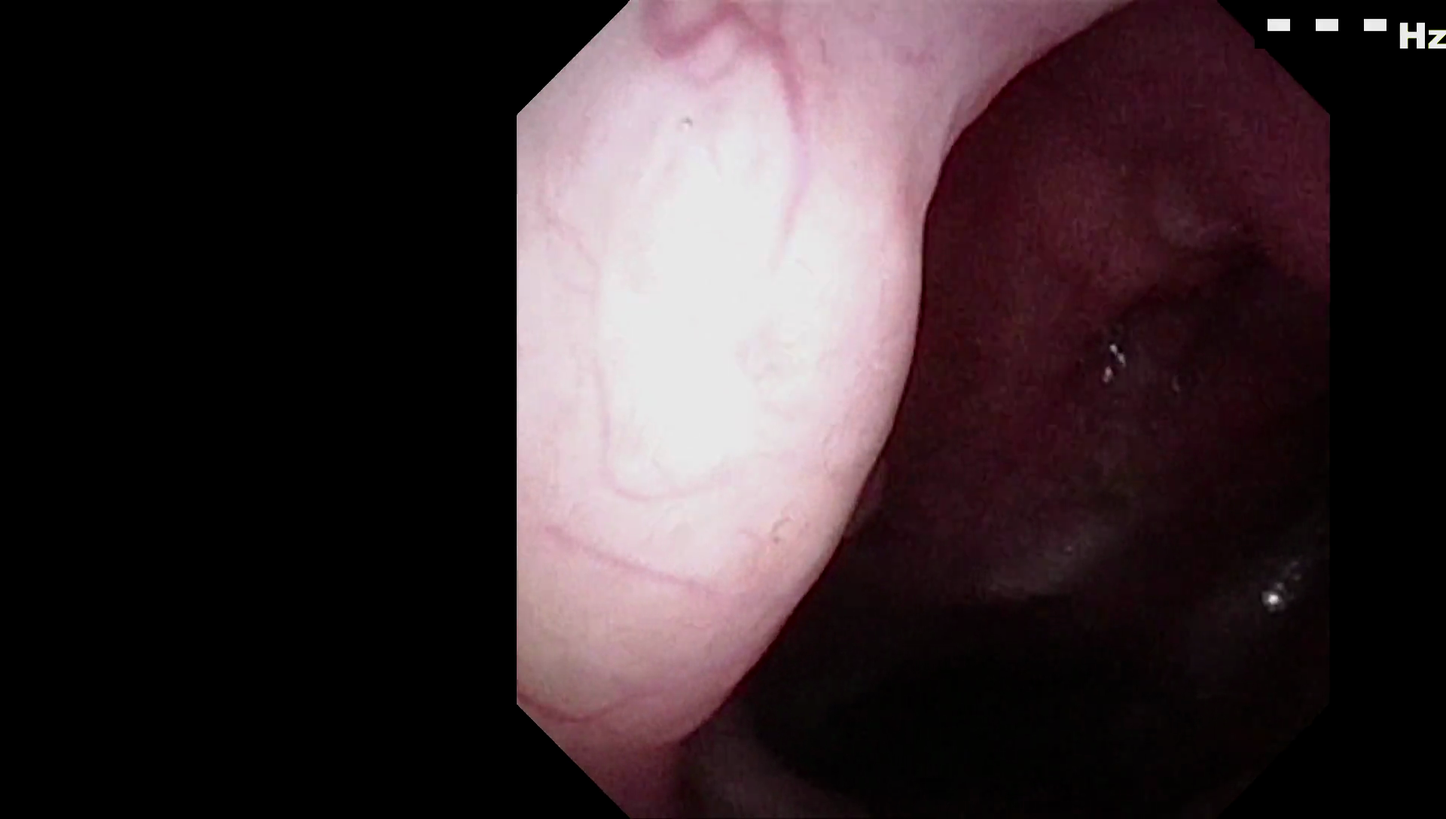close_wall: (541, 113, 941, 762)
next: (788, 440, 1366, 819), (706, 498, 1031, 812)
